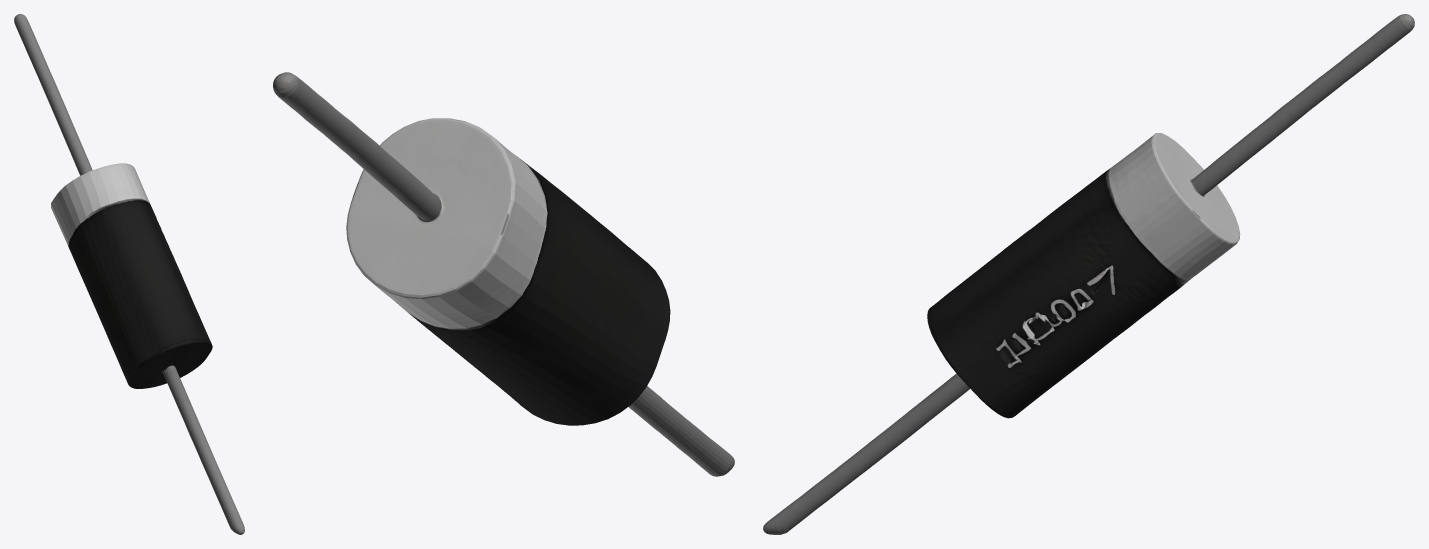
File: diodo.glb
3 views of the same model, side by side, from view 1: azimuth 30°, elevation 25°; view 2: azimuth 150°, elevation 25°; view 3: azimuth 270°, elevation 25° (orthographic). The views are drawn at different scales.
Visible parts, largest first — view 1: tripo_node_fdf2c0af-58ff-4de4-abee-a26c2862d4bc; view 2: tripo_node_fdf2c0af-58ff-4de4-abee-a26c2862d4bc; view 3: tripo_node_fdf2c0af-58ff-4de4-abee-a26c2862d4bc.
Boxes of the visible parts, x1,y1,x2,y2 form: tripo_node_fdf2c0af-58ff-4de4-abee-a26c2862d4bc: (14,14,244,534); tripo_node_fdf2c0af-58ff-4de4-abee-a26c2862d4bc: (273,72,734,476); tripo_node_fdf2c0af-58ff-4de4-abee-a26c2862d4bc: (763,14,1414,534).
Size of the model in its own units: 0.1939 by 0.879 by 0.9998.
1 material, 1 textured.
